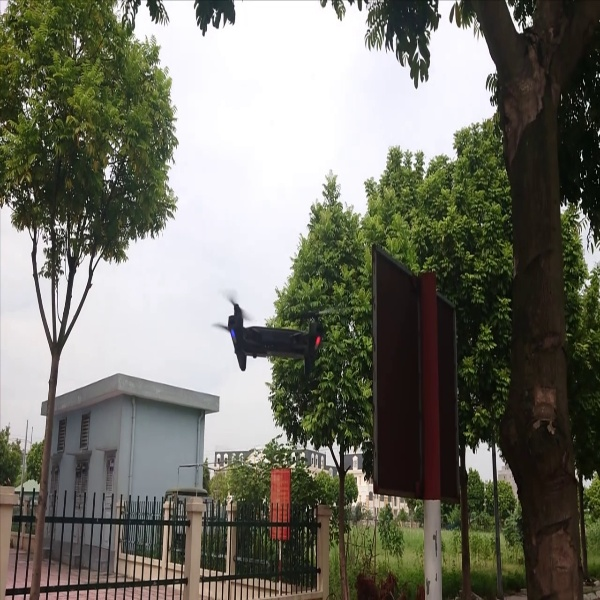drone: (192, 281, 350, 392)
